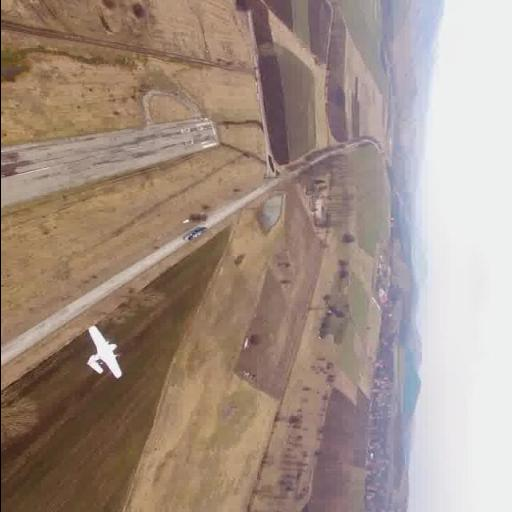uav: (69, 323, 135, 386)
